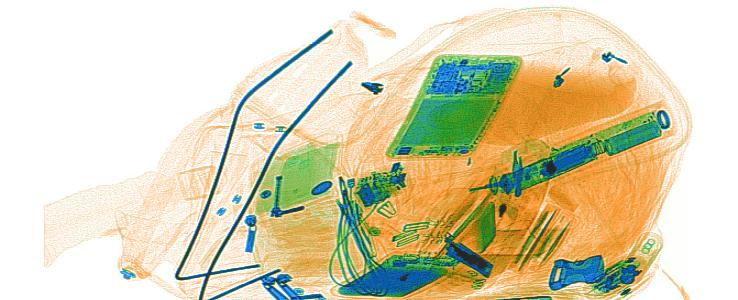battery: (602, 120, 667, 156)
